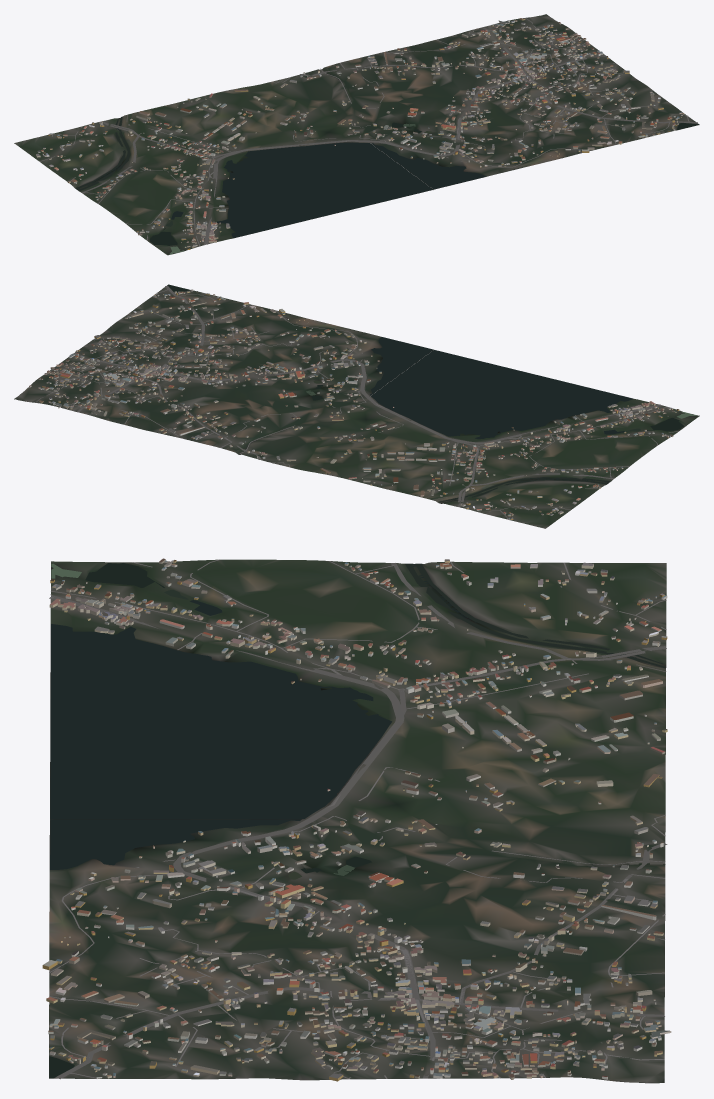
3 renders of one model, top to bottom at view 1: azimuth 30°, elevation 25°; view 2: azimuth 150°, elevation 25°; view 3: azimuth 270°, elevation 25°, orthographic. The views are drawn at different scales.
Visible parts, largest first — view 1: ground, water, buildings, roads; view 2: ground, water, buildings, roads; view 3: ground, water, buildings, roads.
Part boxes in pixels (bbox=[...]): ground: bbox=[14, 14, 699, 255]; water: bbox=[75, 69, 698, 254]; buildings: bbox=[36, 18, 687, 249]; roads: bbox=[39, 18, 697, 245]; ground: bbox=[14, 285, 699, 528]; water: bbox=[167, 284, 696, 502]; buildings: bbox=[29, 289, 679, 520]; roads: bbox=[35, 285, 679, 519]; ground: bbox=[49, 559, 666, 1083]; water: bbox=[49, 563, 665, 1078]; buildings: bbox=[42, 558, 671, 1081]; roads: bbox=[49, 559, 667, 1079].
Size of the model in its own units: 2814 by 31.44 by 1431.
